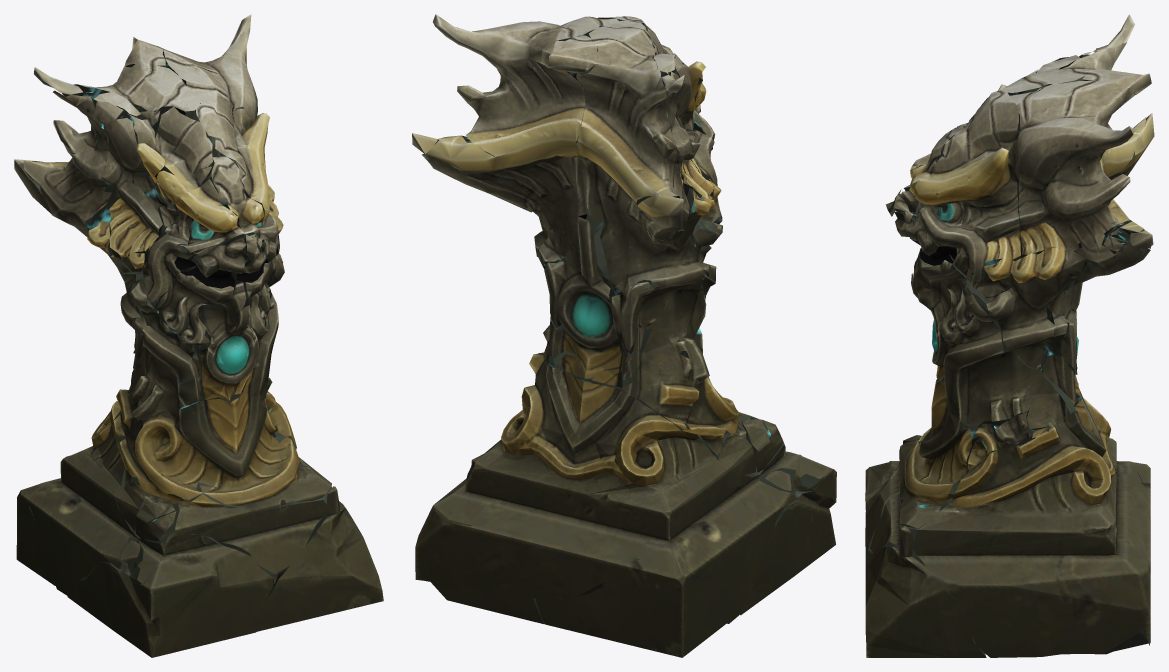
File: TowerT2.glb
3 views of the same model, side by side, from view 1: azimuth 30°, elevation 25°; view 2: azimuth 150°, elevation 25°; view 3: azimuth 270°, elevation 25° (orthographic). The views are drawn at different scales.
Parts seen in each view (by area): view 1: models/props_structures/tower_dragon_wght_dest_lvl1.vmdl_c.t; view 2: models/props_structures/tower_dragon_wght_dest_lvl1.vmdl_c.t; view 3: models/props_structures/tower_dragon_wght_dest_lvl1.vmdl_c.t.
Part boxes in pixels (x1,y1,x2,y2): models/props_structures/tower_dragon_wght_dest_lvl1.vmdl_c.t: [14, 14, 383, 657]; models/props_structures/tower_dragon_wght_dest_lvl1.vmdl_c.t: [412, 14, 836, 657]; models/props_structures/tower_dragon_wght_dest_lvl1.vmdl_c.t: [865, 14, 1154, 657].
Bounding box in the file's own units: 2 × 4.04 × 2.01.
1 material, 1 textured.
